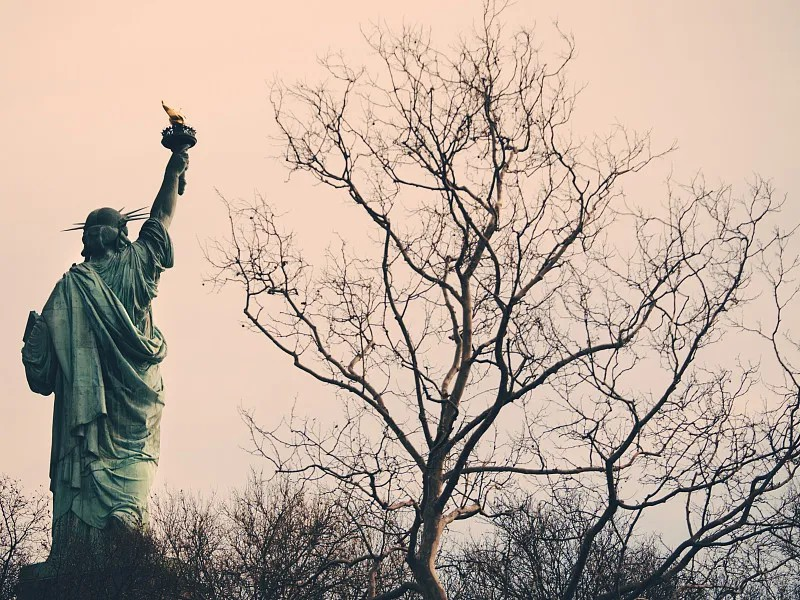SL: (18, 100, 214, 600)
